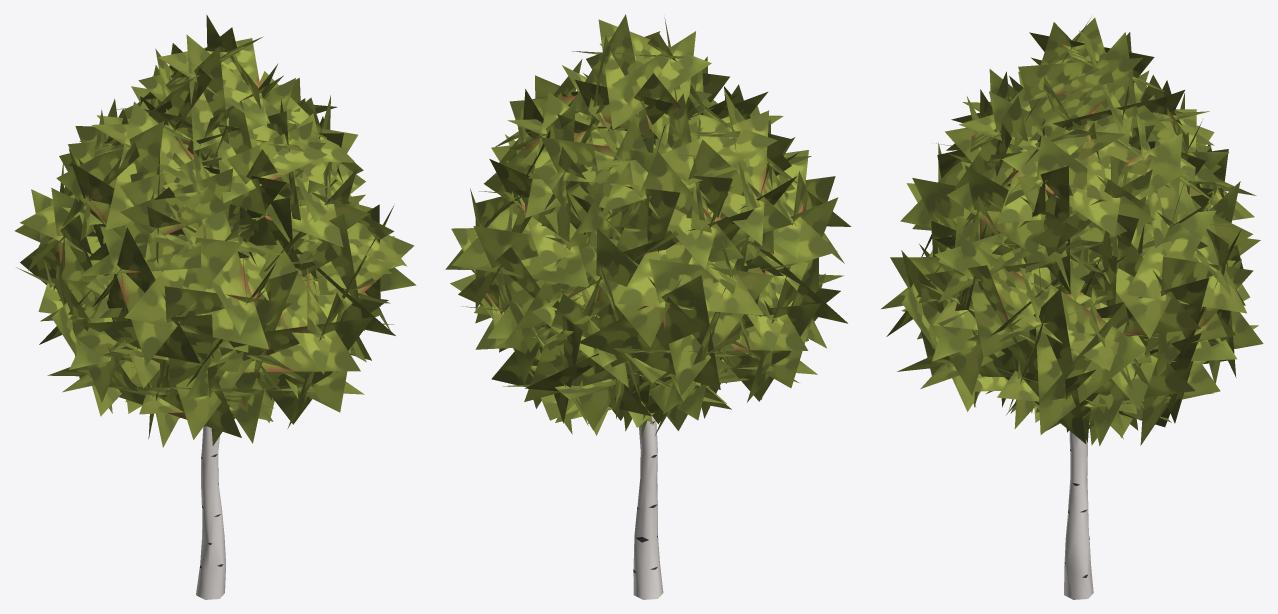
Rendered from Birch_Tree_3.glb.
The picture shows the model from 3 angles, left to right: view 1: azimuth 30°, elevation 25°; view 2: azimuth 150°, elevation 25°; view 3: azimuth 270°, elevation 25°; orthographic projection. The views are drawn at different scales.
Visible parts, largest first — view 1: Birch_Tree_3; view 2: Birch_Tree_3; view 3: Birch_Tree_3.
Boxes of the visible parts, x1,y1,x2,y2 form: Birch_Tree_3: [15, 14, 416, 599]; Birch_Tree_3: [445, 14, 851, 599]; Birch_Tree_3: [881, 18, 1263, 599].
Size of the model in its own units: 5.2 by 7.83 by 4.74.
2 materials, 2 textured.
